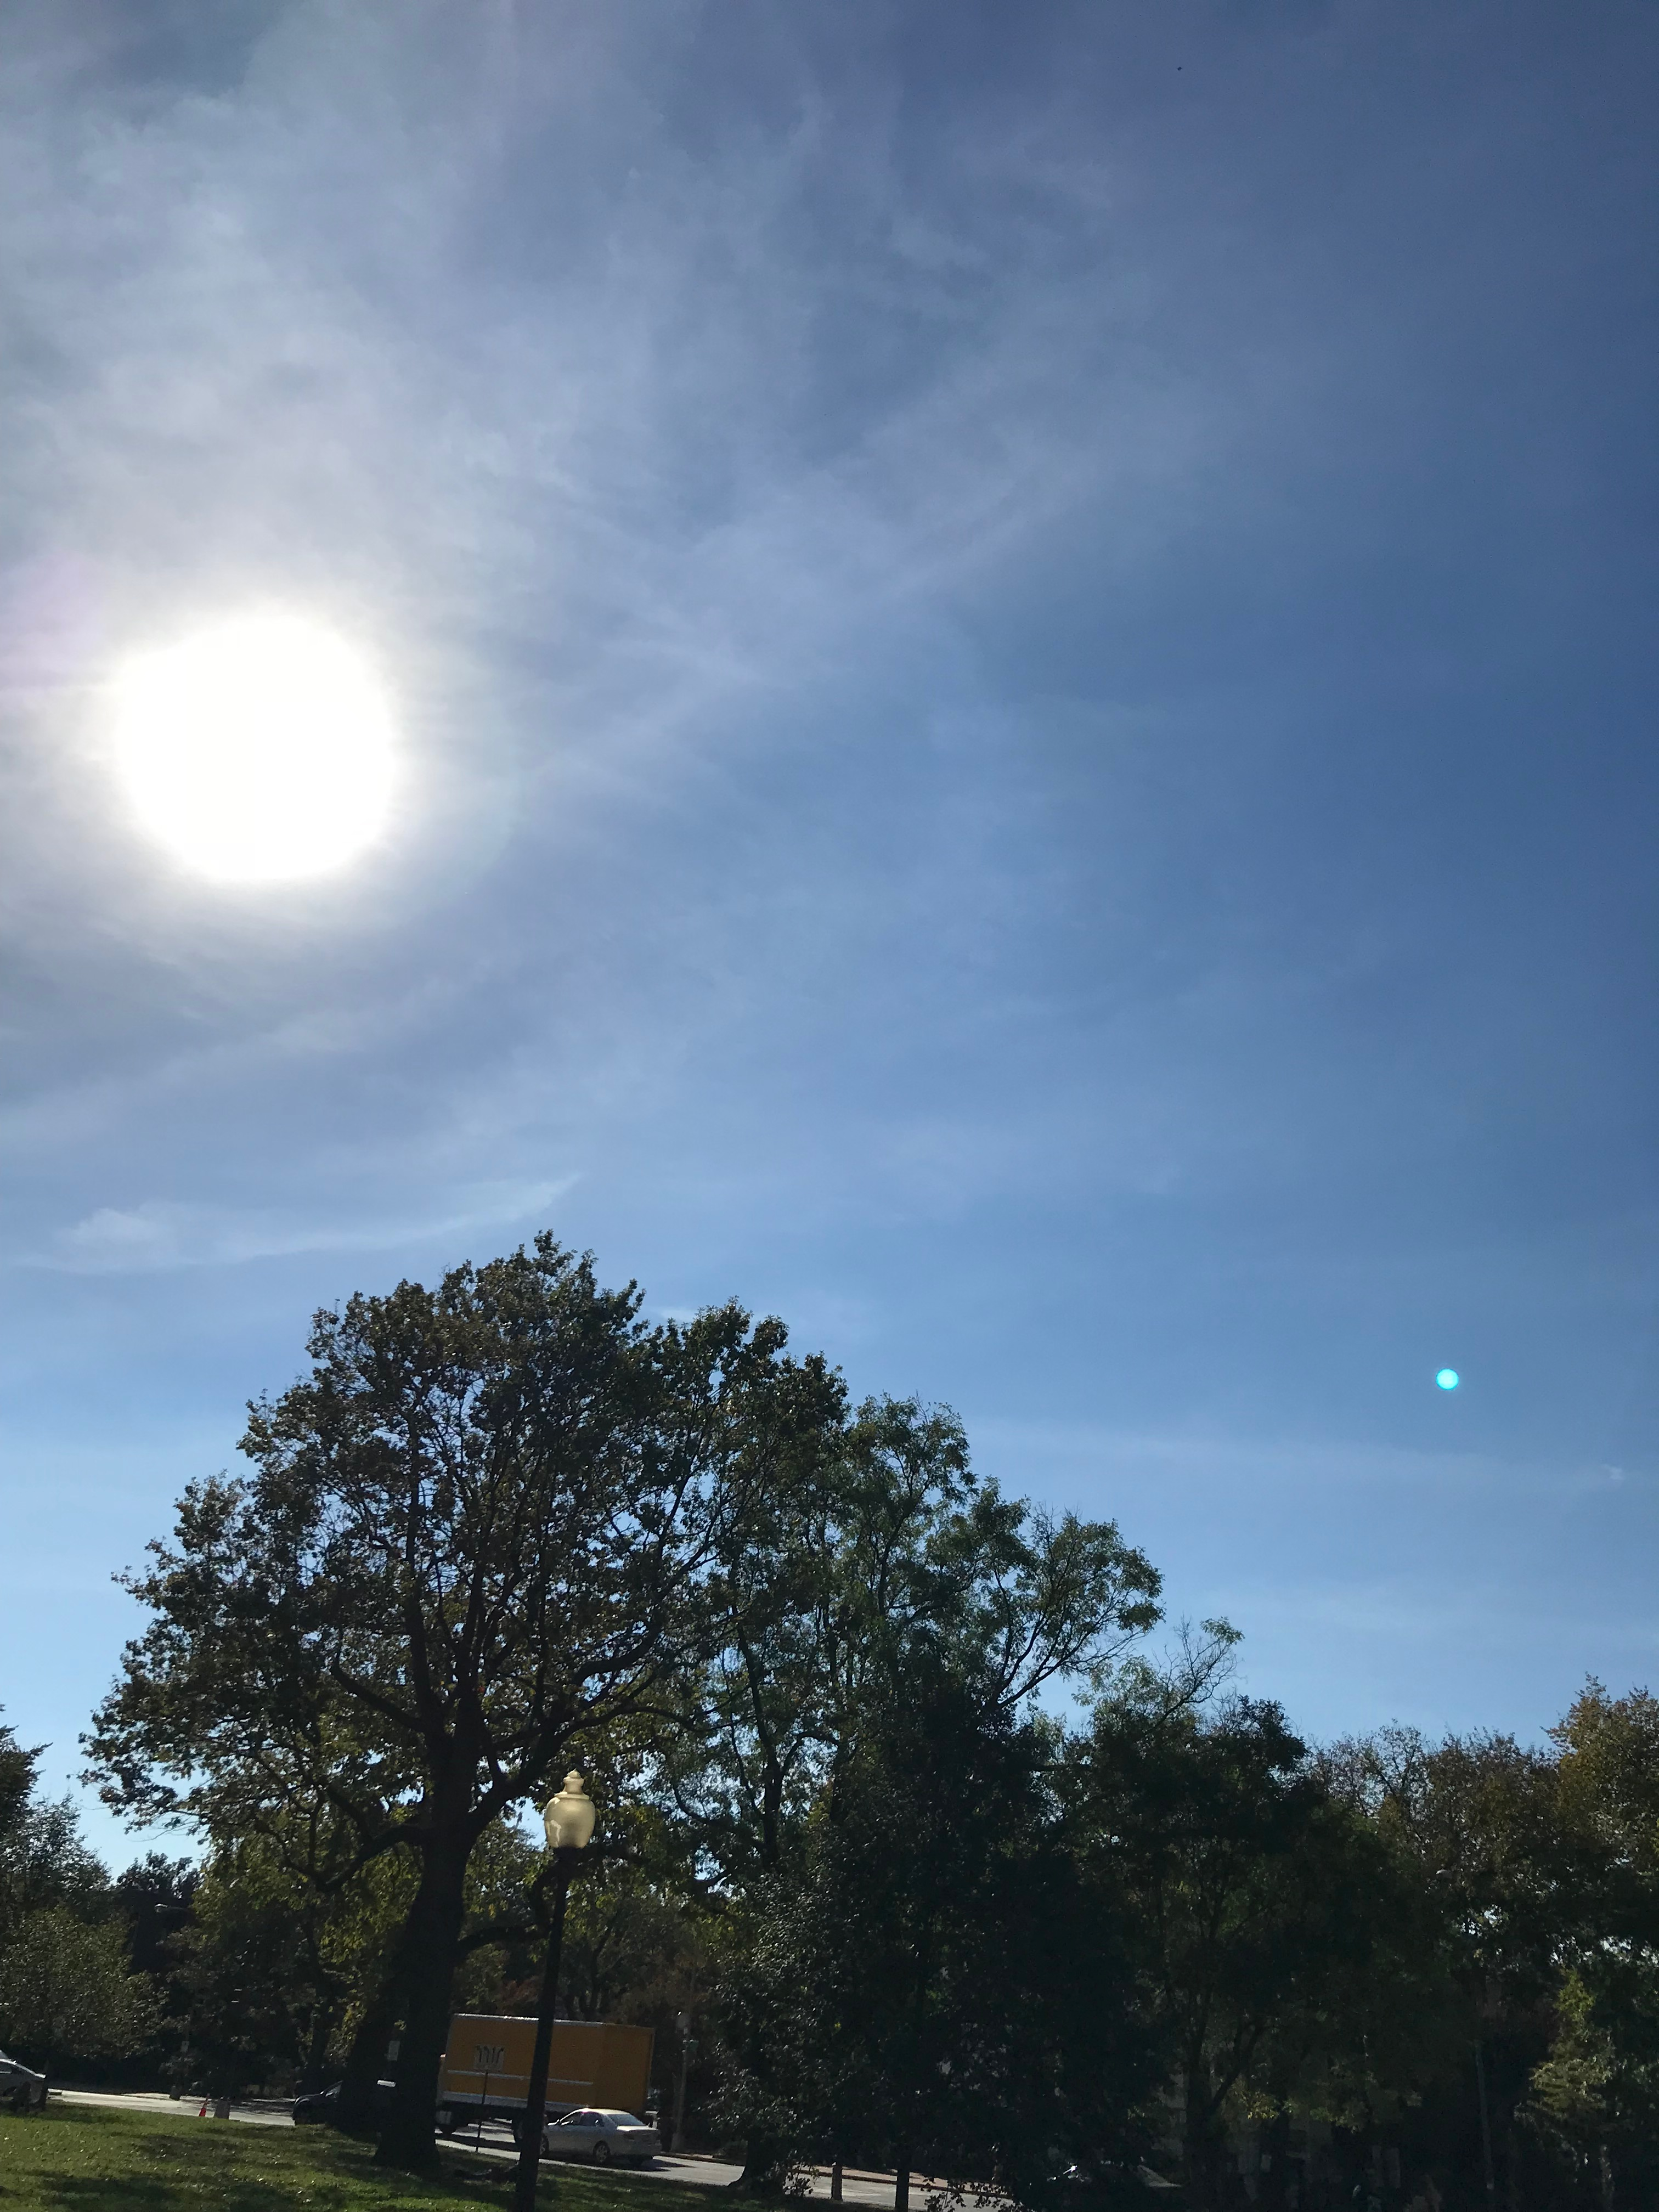flare: (1434, 1366, 1462, 1392)
